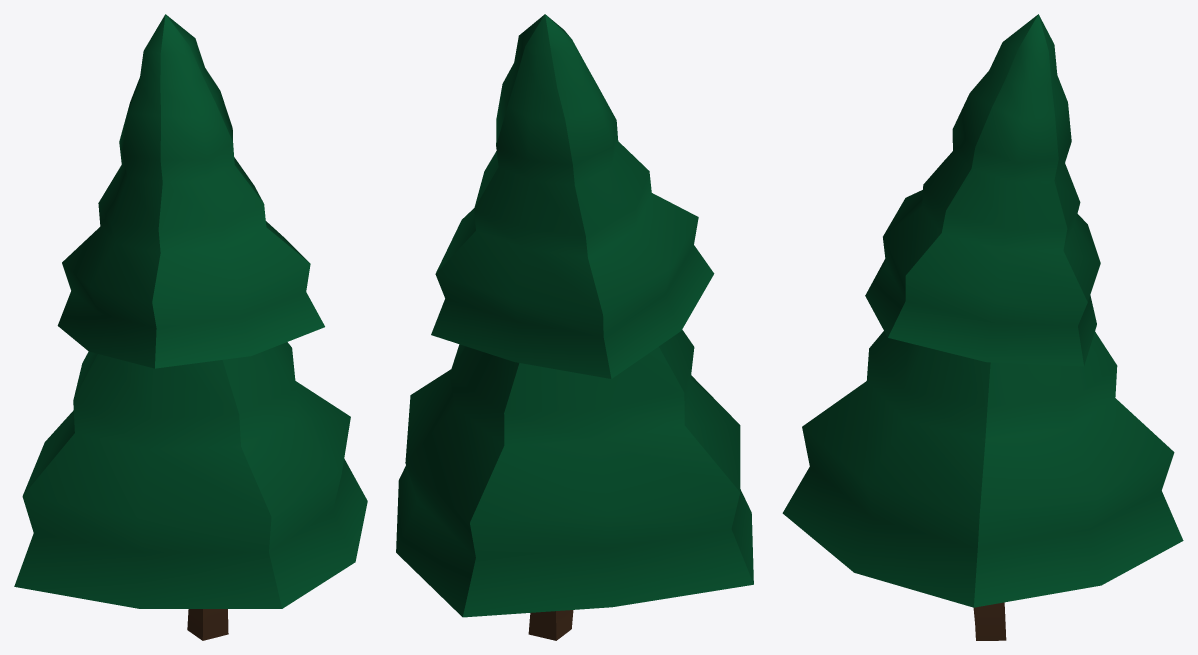
Rendered from Coni_Tree7.fbx.
The picture shows the model from 3 angles, left to right: view 1: azimuth 30°, elevation 25°; view 2: azimuth 150°, elevation 25°; view 3: azimuth 270°, elevation 25°; orthographic projection. The views are drawn at different scales.
Visible parts, largest first — view 1: Coni_Tree7_Leaves2, Coni_Tree7_Leaves, Coni_Tree7; view 2: Coni_Tree7_Leaves2, Coni_Tree7_Leaves, Coni_Tree7; view 3: Coni_Tree7_Leaves2, Coni_Tree7_Leaves, Coni_Tree7.
Part boxes in pixels (box(x1,y1,x2,y2)): Coni_Tree7_Leaves2: box(14, 342, 367, 608); Coni_Tree7_Leaves: box(57, 14, 324, 368); Coni_Tree7: box(187, 609, 228, 640); Coni_Tree7_Leaves2: box(396, 329, 753, 617); Coni_Tree7_Leaves: box(431, 14, 714, 378); Coni_Tree7: box(528, 610, 573, 640); Coni_Tree7_Leaves2: box(782, 331, 1183, 607); Coni_Tree7_Leaves: box(865, 14, 1100, 366); Coni_Tree7: box(973, 602, 1006, 640).
Bounding box in the file's own units: 156 × 263 × 156.
